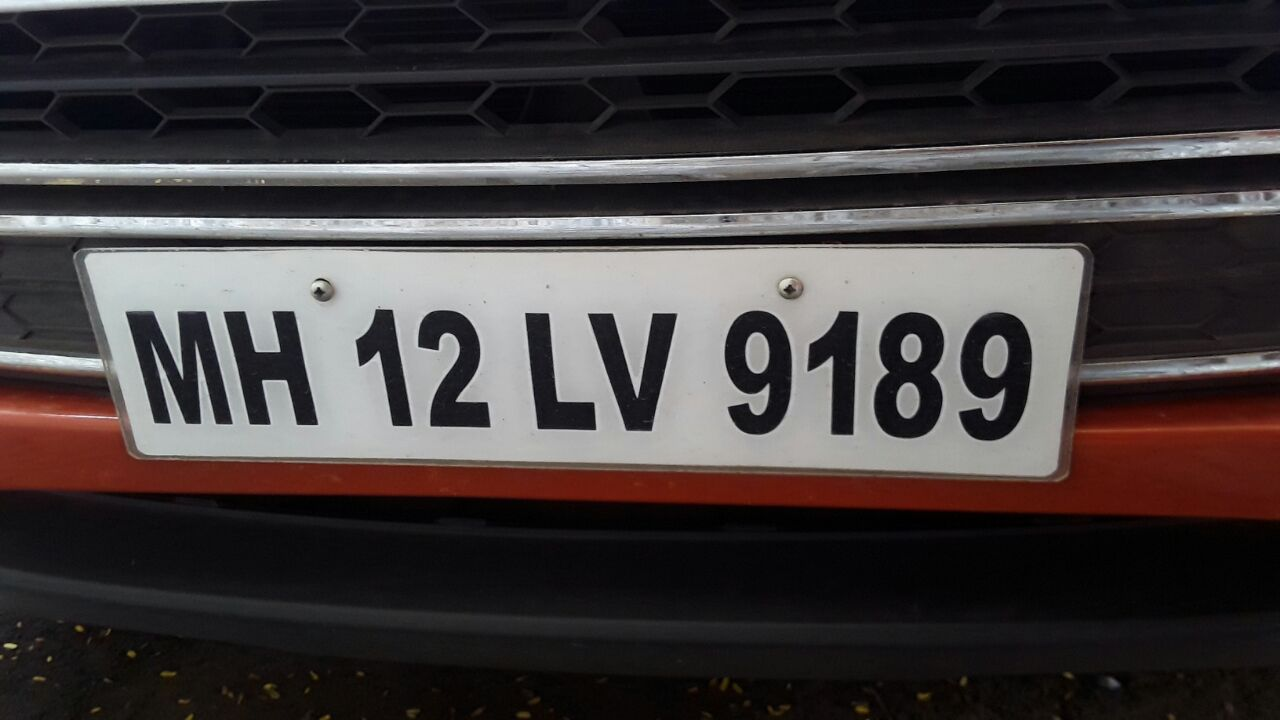licenseplate: (69, 228, 1094, 498)
